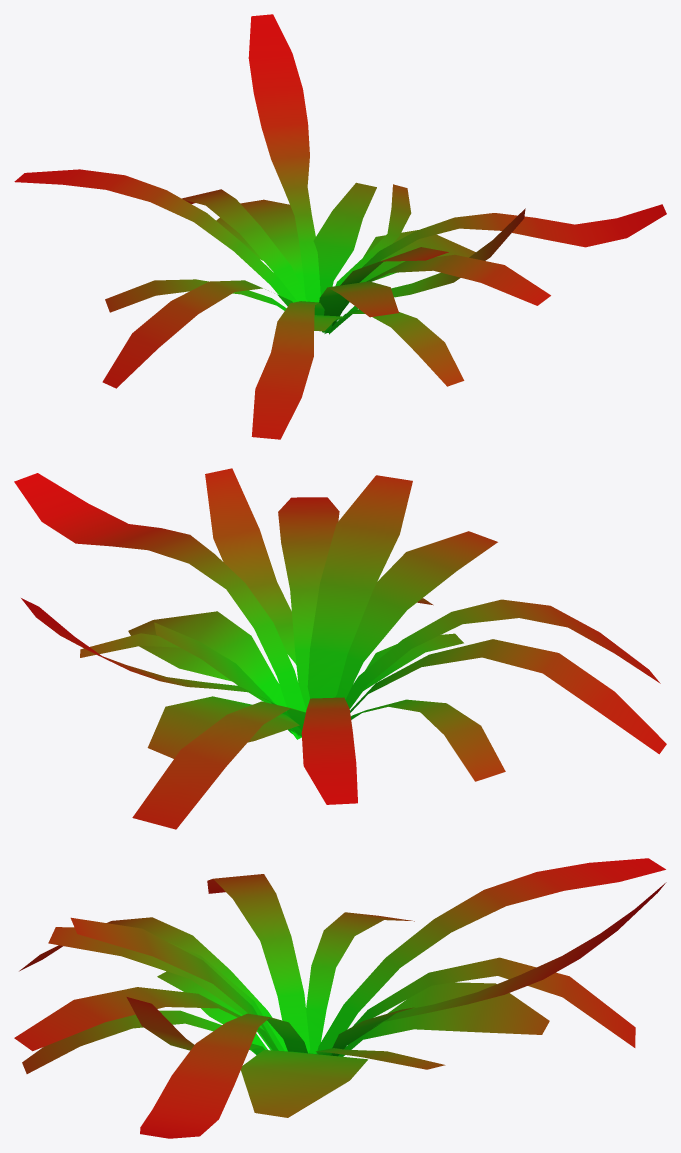
File: Var5_LOD1.fbx
The picture shows the model from 3 angles, top to bottom: view 1: azimuth 30°, elevation 25°; view 2: azimuth 150°, elevation 25°; view 3: azimuth 270°, elevation 25°; orthographic projection. The views are drawn at different scales.
Parts seen in each view (by area): view 1: Var5_LOD1; view 2: Var5_LOD1; view 3: Var5_LOD1.
Boxes of the visible parts, x1,y1,x2,y2 form: Var5_LOD1: (14, 14, 666, 439); Var5_LOD1: (14, 468, 666, 829); Var5_LOD1: (14, 858, 666, 1138).
Bounding box in the file's own units: 42.25 × 14.14 × 35.17.
